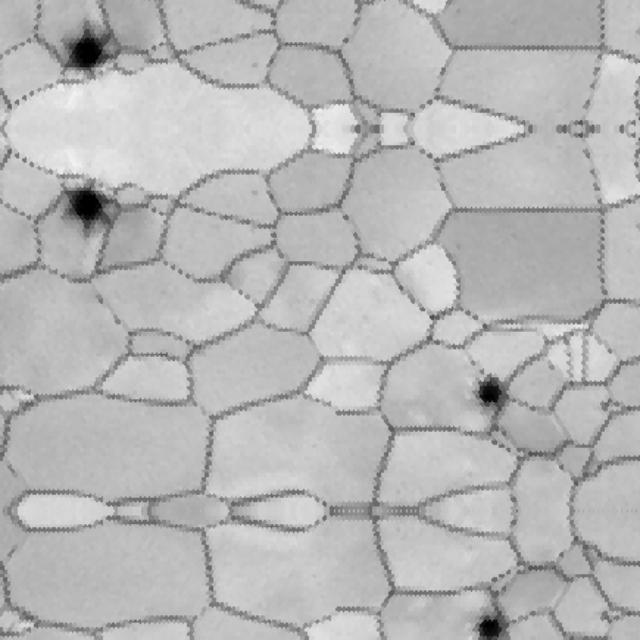good_void: (58, 179, 118, 241), (58, 18, 118, 80), (470, 371, 509, 421), (470, 603, 509, 640), (595, 398, 613, 417), (595, 607, 613, 626), (250, 188, 261, 198), (250, 61, 261, 71)
